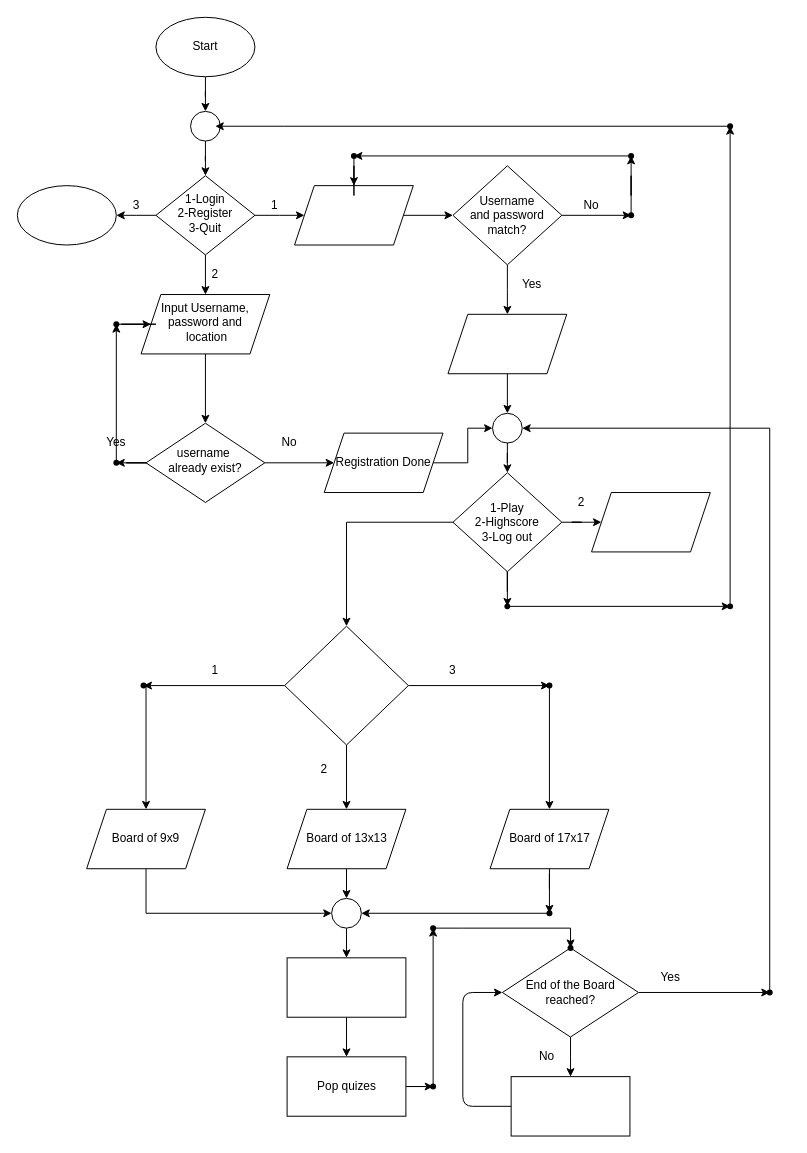
This 807x1153 diagram has some shape labels left out. The shapes that lost their labels are listed below. From the top down, each one's centre as x and y in pixels, then its label:
pixel 66 215: End
pixel 353 215: Input username and password
pixel 507 343: Login Success
pixel 650 522: Show Scoreboard
pixel 346 685: 1-Easy 2-Medium 3-Hard
pixel 346 987: Generate random traps
pixel 570 1106: Move player to new position
